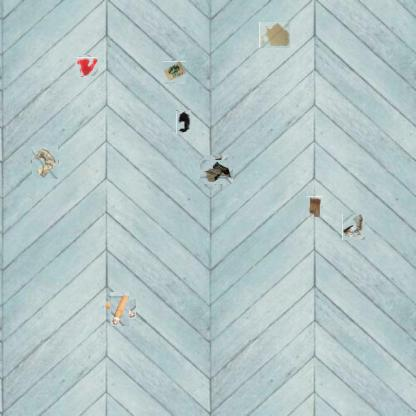dirty: (30, 148, 60, 178), (202, 158, 231, 186), (106, 296, 132, 323), (342, 214, 365, 240), (163, 61, 186, 83), (176, 110, 191, 134), (307, 196, 323, 217)
liquid: (259, 22, 290, 48), (76, 56, 97, 78)
